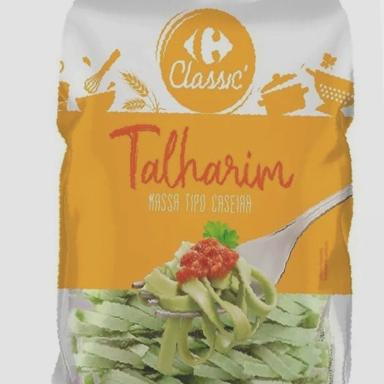pasta package: (53, 0, 353, 383)
